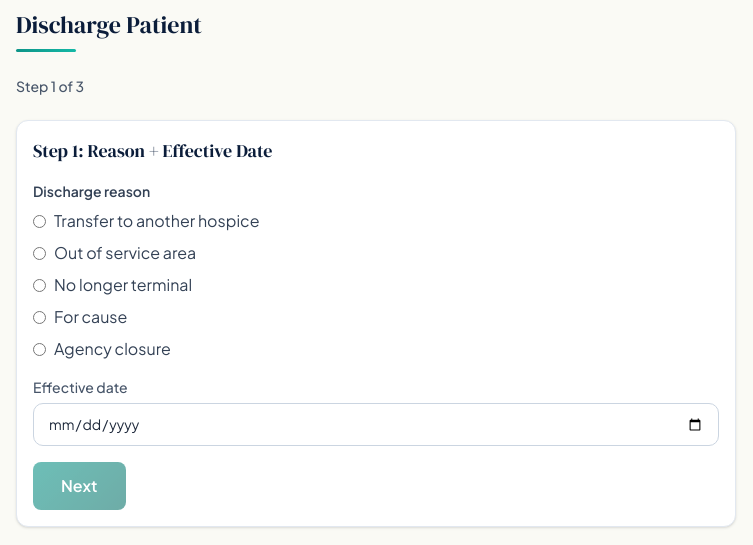
it: HospiceDischargeWizard › Step 2 shows Transfer-specific field when reason=Transfer
Click the radio button labelled "Transfer to another hospice". click: [40, 221]
box: [33,214,46,228]
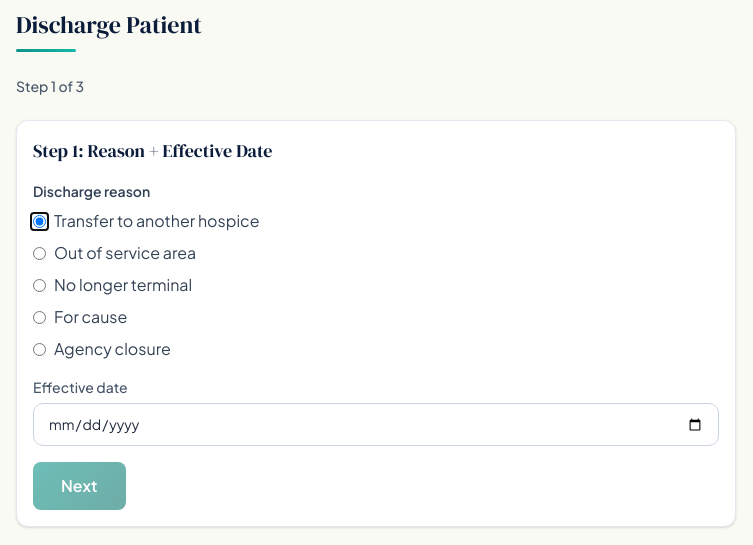
Type "2026-02-01" into the date field labelled "Effective date". click: [376, 424]
box: [33,403,719,446]
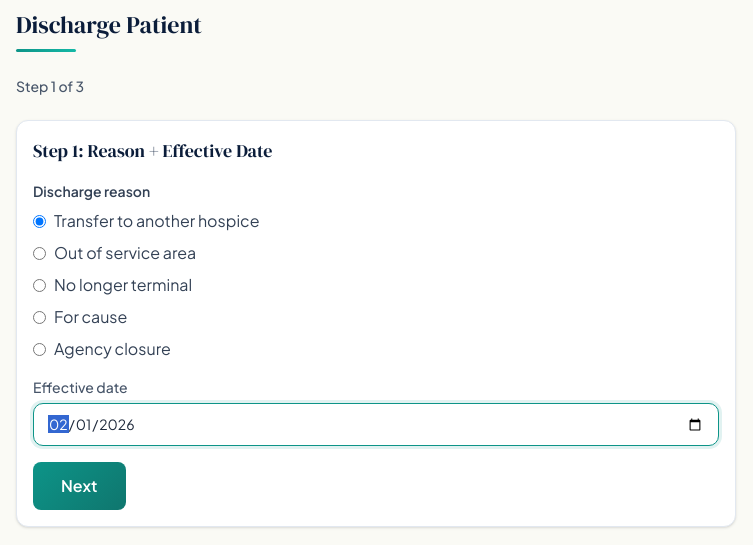
Click the button "Next". click: [79, 486]
box: [33,462,126,510]
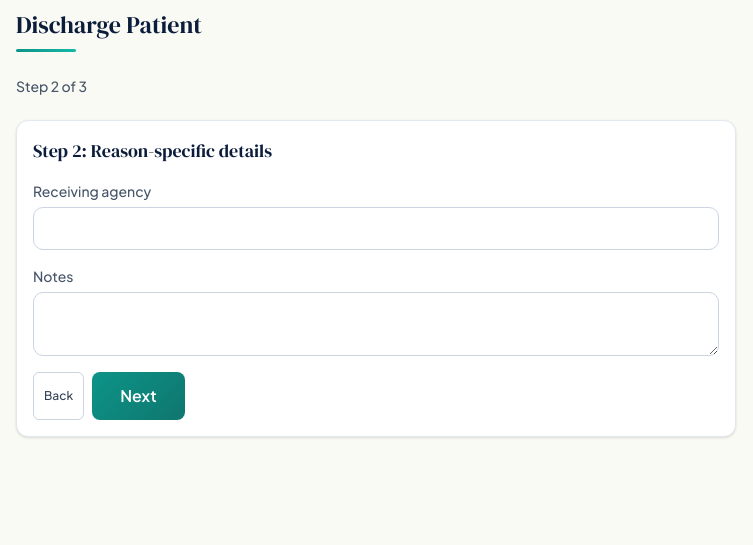
Result: the field labelled "Receiving agency" is shown at [33,207,719,250]
